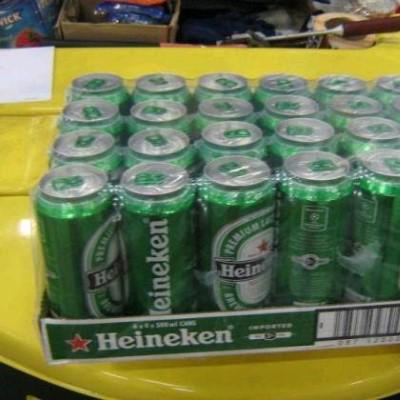beer: (35, 68, 400, 328)
